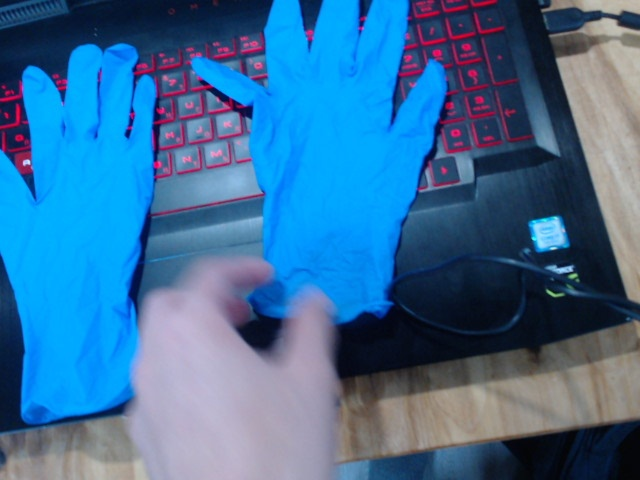medical_glove: (190, 1, 446, 252), (1, 41, 157, 298)
